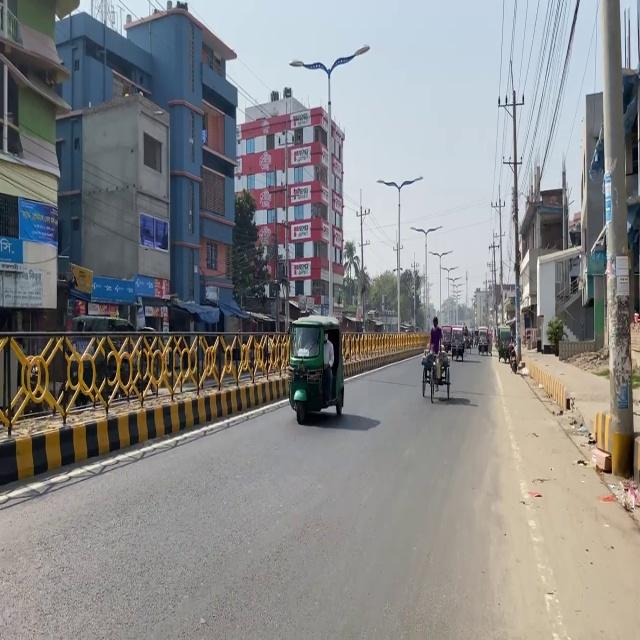Construction-barrier: (0, 372, 289, 485)
Fallen-tree: (420, 344, 451, 403), (507, 339, 517, 373), (451, 337, 464, 361)
Garbage: (589, 410, 612, 472)
Garbage-bin: (428, 316, 443, 354)
Light-pole: (598, 0, 634, 479)
Muddy road: (545, 316, 566, 357)
Pothole: (516, 341, 639, 520), (520, 343, 609, 441)
Traffic-cone: (61, 313, 159, 403), (286, 312, 345, 424)
